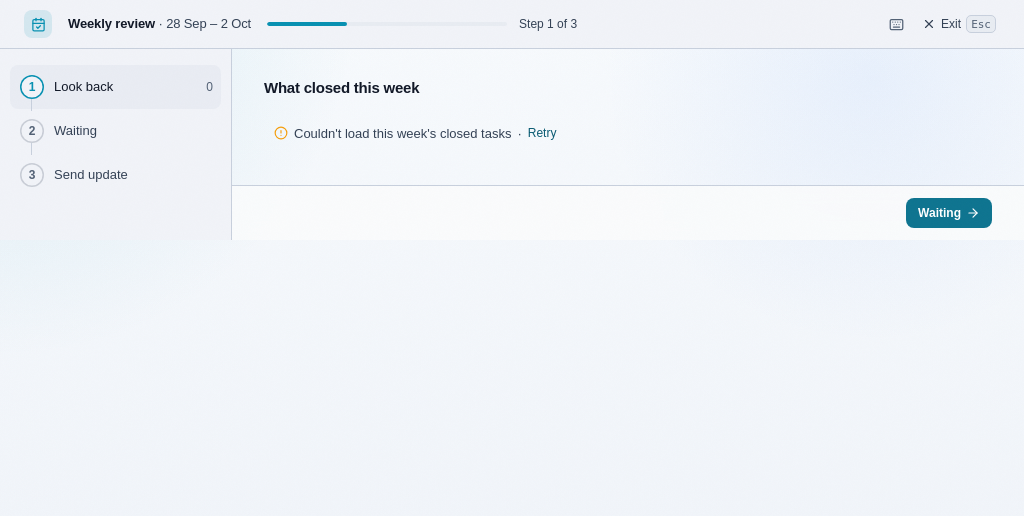
Test: WeeklyReviewMode (docs/59 §5) › shows a failed source as an inline note with Retry while the rest works
Click the button "Retry".
click(542, 133)  # box [528,124,556,142]
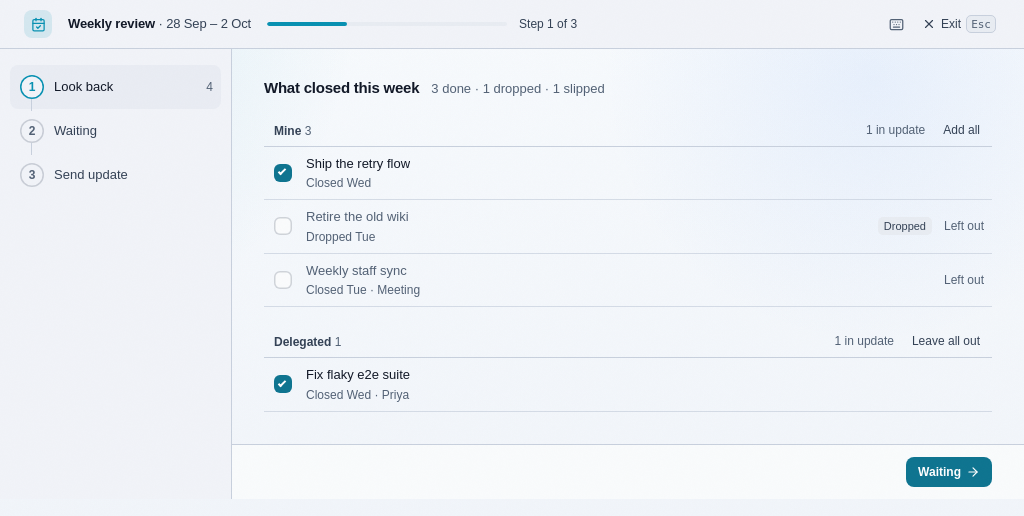
expect the checkbox named "Ship the retry flow" is shown: met, box [274,164,292,182]
